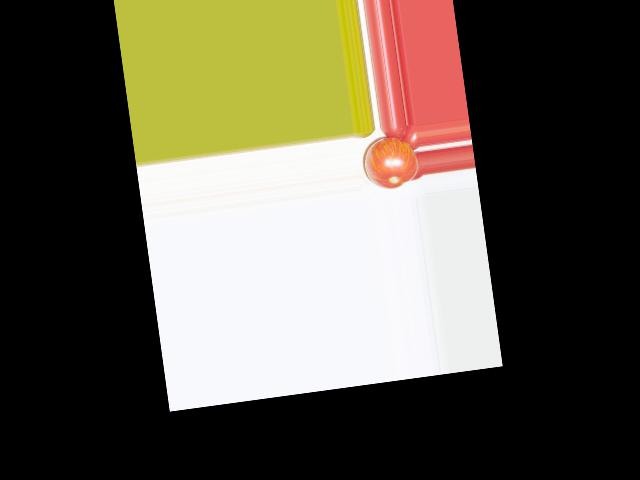tomato: (361, 133, 420, 192)
